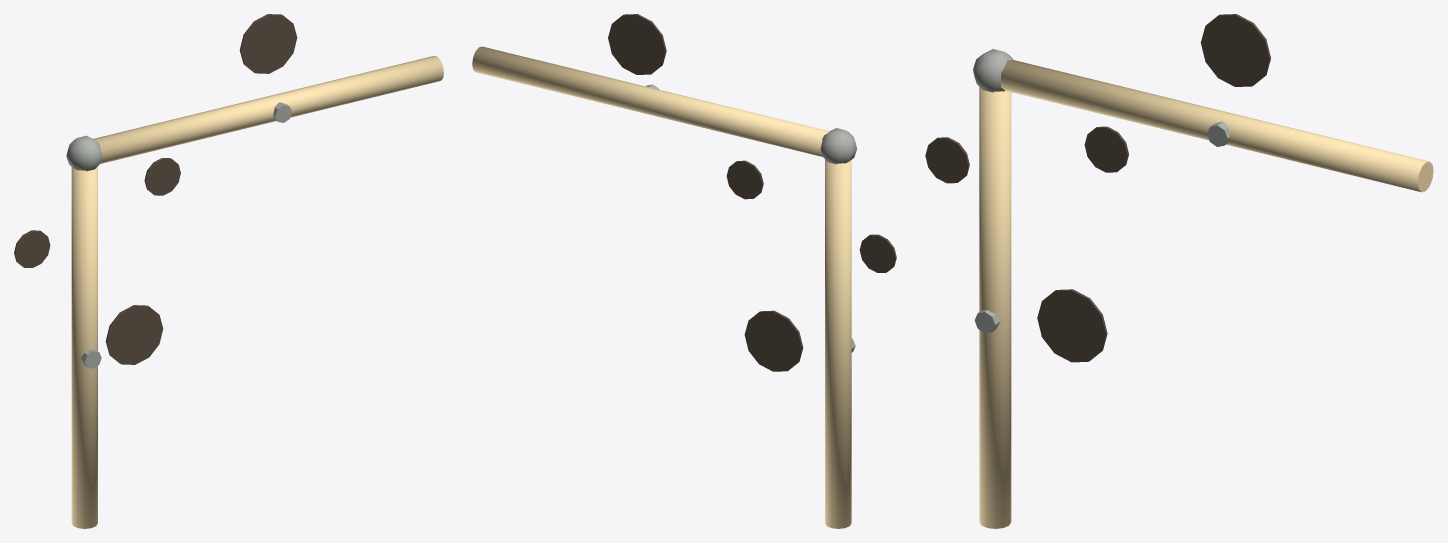
The model's file is drip_m03.obj.
The picture shows the model from 3 angles, left to right: view 1: azimuth 30°, elevation 25°; view 2: azimuth 150°, elevation 25°; view 3: azimuth 330°, elevation 25°; orthographic projection. The views are drawn at different scales.
Visible parts, largest first — view 1: hose1, hose2, wet1_0, wet2_0, wet1_1, wet2_1, tee; view 2: hose1, hose2, wet1_0, wet2_0, wet2_1, wet1_1, tee; view 3: hose1, hose2, wet1_0, wet2_0, wet2_1, wet1_1, tee.
Part boxes in pixels (bbox=[...]): hose1: bbox=[71, 166, 97, 528]; hose2: bbox=[94, 55, 443, 163]; wet1_0: bbox=[105, 305, 163, 364]; wet2_0: bbox=[239, 14, 297, 73]; wet1_1: bbox=[14, 230, 50, 267]; wet2_1: bbox=[144, 158, 180, 195]; tee: bbox=[66, 135, 102, 171]; hose1: bbox=[825, 159, 851, 528]; hose2: bbox=[472, 46, 829, 156]; wet1_0: bbox=[744, 310, 803, 371]; wet2_0: bbox=[608, 14, 666, 74]; wet2_1: bbox=[726, 160, 763, 199]; wet1_1: bbox=[859, 234, 896, 272]; tee: bbox=[820, 128, 856, 164]; hose1: bbox=[979, 87, 1011, 528]; hose2: bbox=[1001, 60, 1433, 192]; wet1_0: bbox=[1037, 289, 1107, 362]; wet2_0: bbox=[1200, 14, 1270, 86]; wet2_1: bbox=[1084, 126, 1128, 172]; wet1_1: bbox=[925, 137, 969, 183]; tee: bbox=[973, 49, 1013, 92].
Size of the model in its own units: 0.59 by 0.62 by 0.0464.
Materials: 3 (3 with a texture image).
